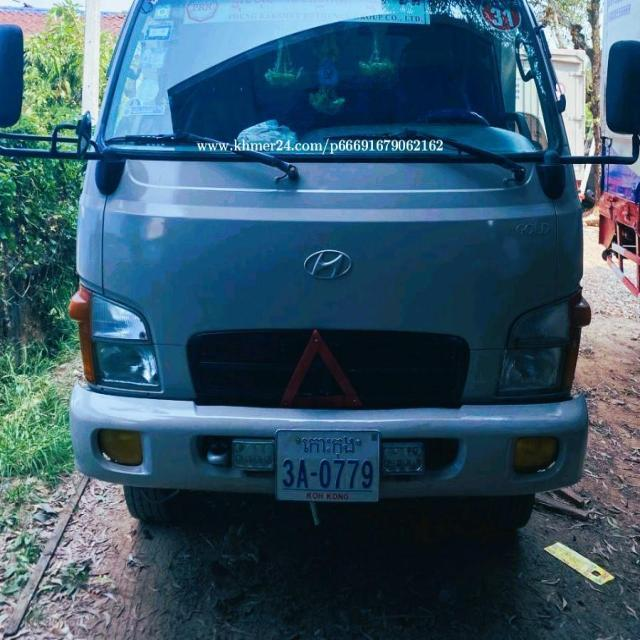Koh_Kong: (303, 435, 356, 458)
